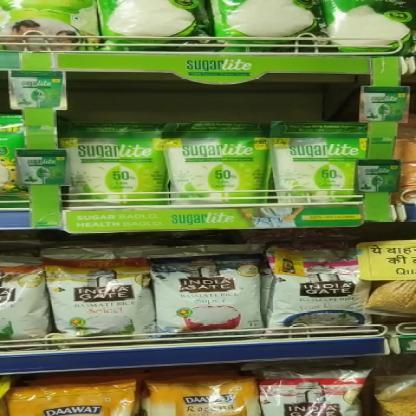SUGARLITE POUCH 500G: (64, 130, 166, 204), (166, 132, 268, 204)
